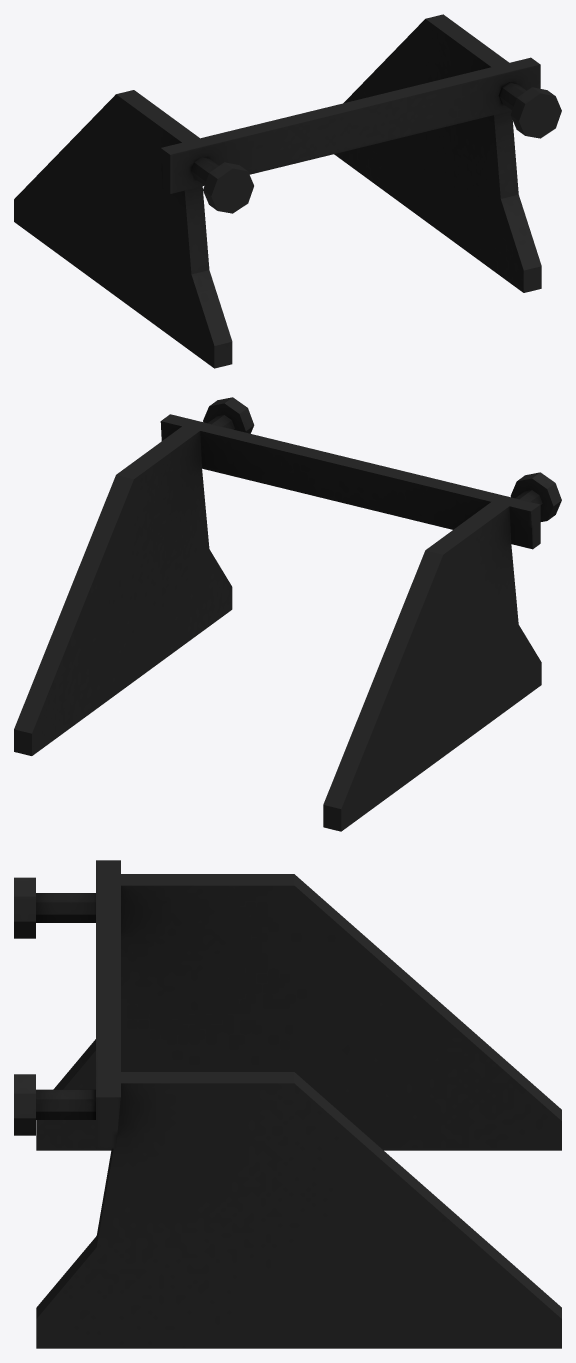
The model's file is Track_Stopper.fbx.
3 views of the same model, one above another, from view 1: azimuth 30°, elevation 25°; view 2: azimuth 150°, elevation 25°; view 3: azimuth 270°, elevation 25° (orthographic). The views are drawn at different scales.
Parts seen in each view (by area): view 1: Track_Stopper; view 2: Track_Stopper; view 3: Track_Stopper.
Boxes of the visible parts, x1,y1,x2,y2 form: Track_Stopper: (14,14,561,368); Track_Stopper: (14,397,561,831); Track_Stopper: (14,860,561,1348).
Size of the model in its own units: 1.19 by 0.6275 by 1.16.
